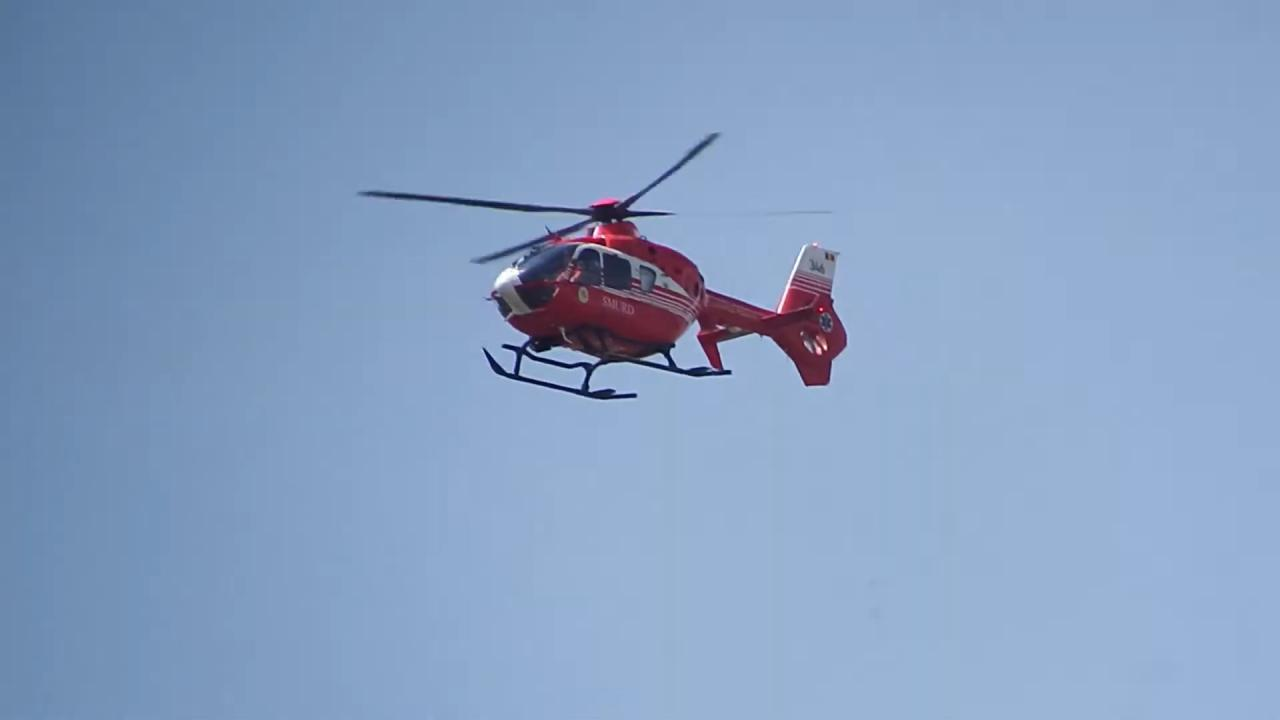Helicopter: (345, 121, 861, 421)
